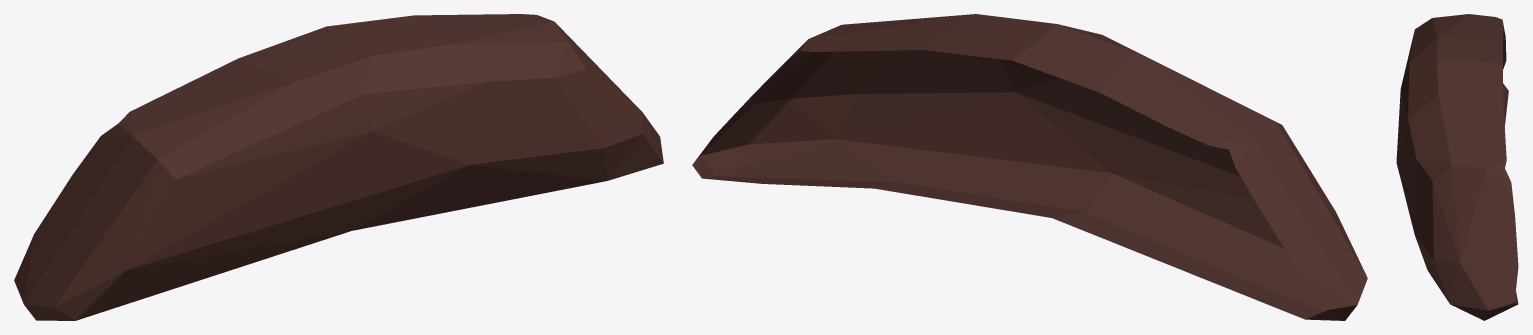
File: Police_M_Mustache.fbx
3 views of the same model, side by side, from view 1: azimuth 30°, elevation 25°; view 2: azimuth 150°, elevation 25°; view 3: azimuth 270°, elevation 25° (orthographic). The views are drawn at different scales.
Parts seen in each view (by area): view 1: Police_M_Mustache; view 2: Police_M_Mustache; view 3: Police_M_Mustache.
Part boxes in pixels (<box>): Police_M_Mustache: <box>14,14,663,320</box>; Police_M_Mustache: <box>692,14,1367,320</box>; Police_M_Mustache: <box>1396,14,1518,320</box>.
Bounding box in the file's own units: 9.18 × 2.78 × 2.05.
